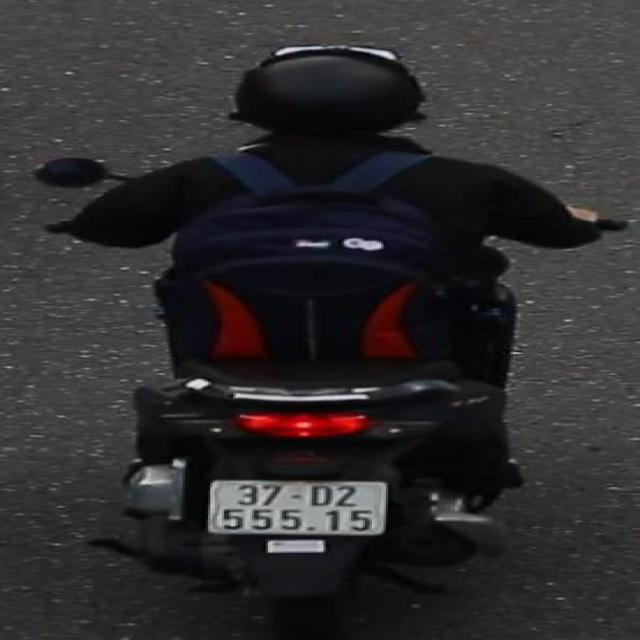LP: (202, 472, 399, 540)
helmet: (219, 44, 442, 156)
